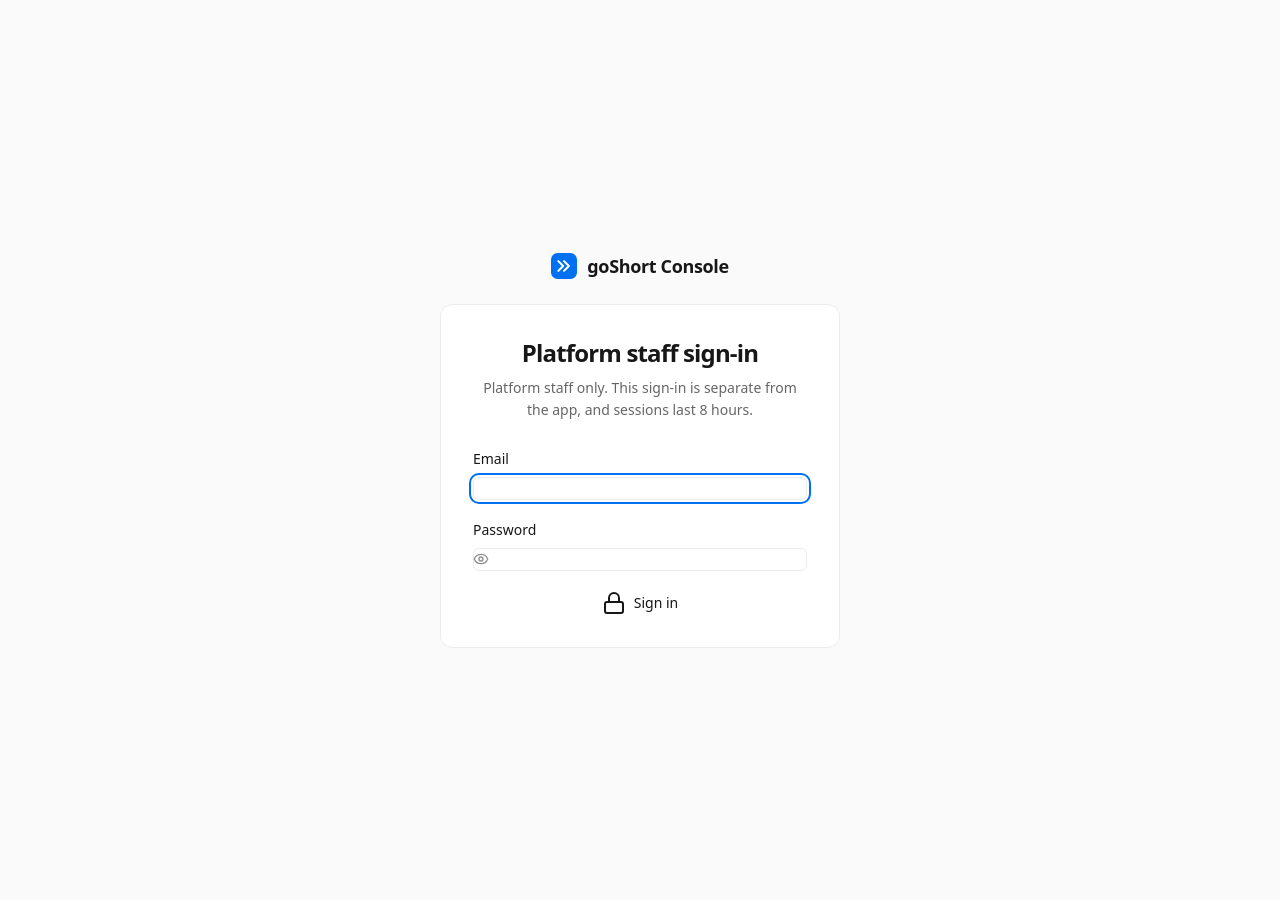
access › uses its own sign-in: shows the staff form when signed out, signs in against the CONSOLE endpoint
The image size is (1280, 900).
Expected: the heading "Platform staff sign-in" is shown, 522,336 -> 758,368
Type "root@example.com" into the field labelled "Email" at point(640, 488), box 473,476 -> 807,500
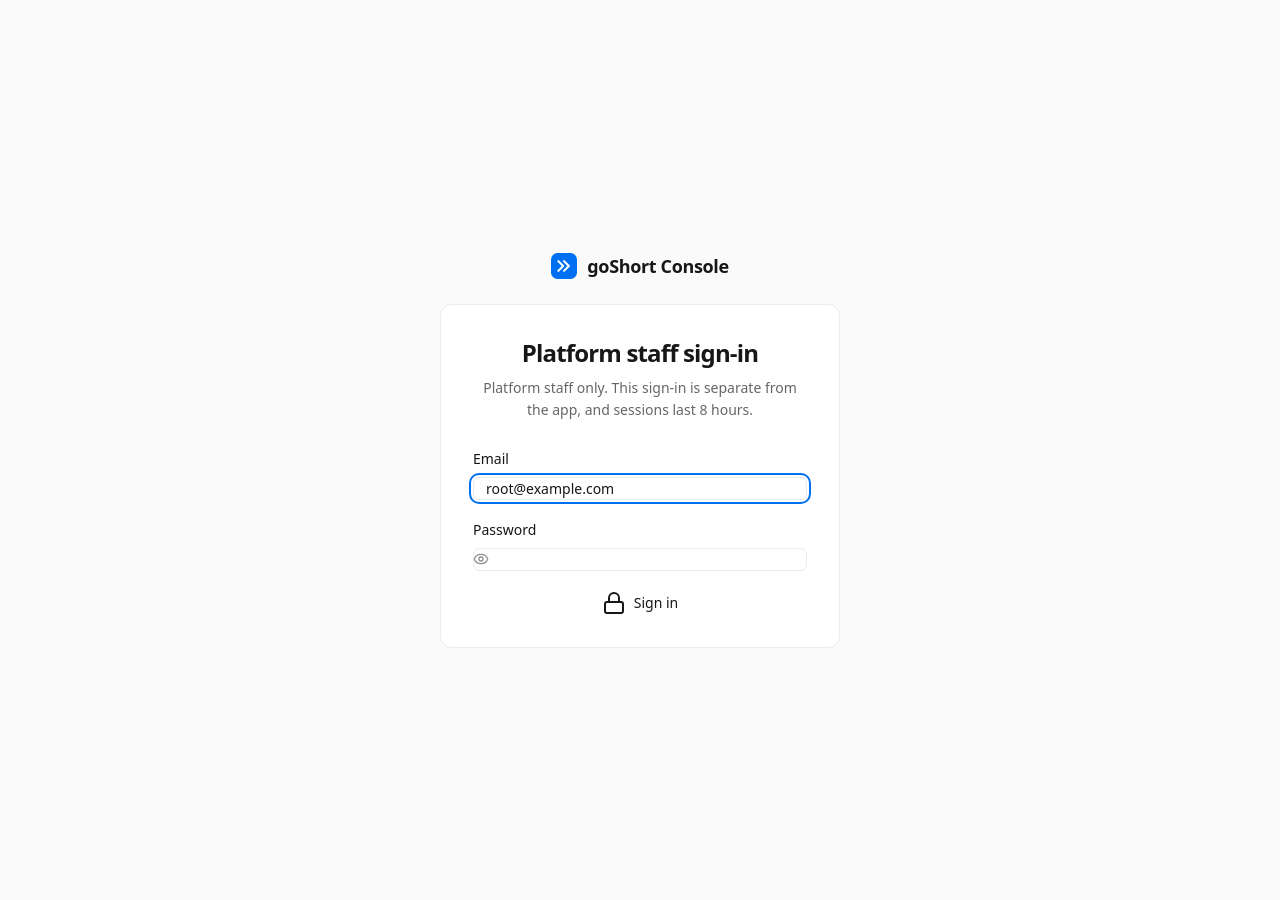
Type "correct-horse-battery" into the password field labelled "Password" at point(640, 559), box 473,548 -> 807,570
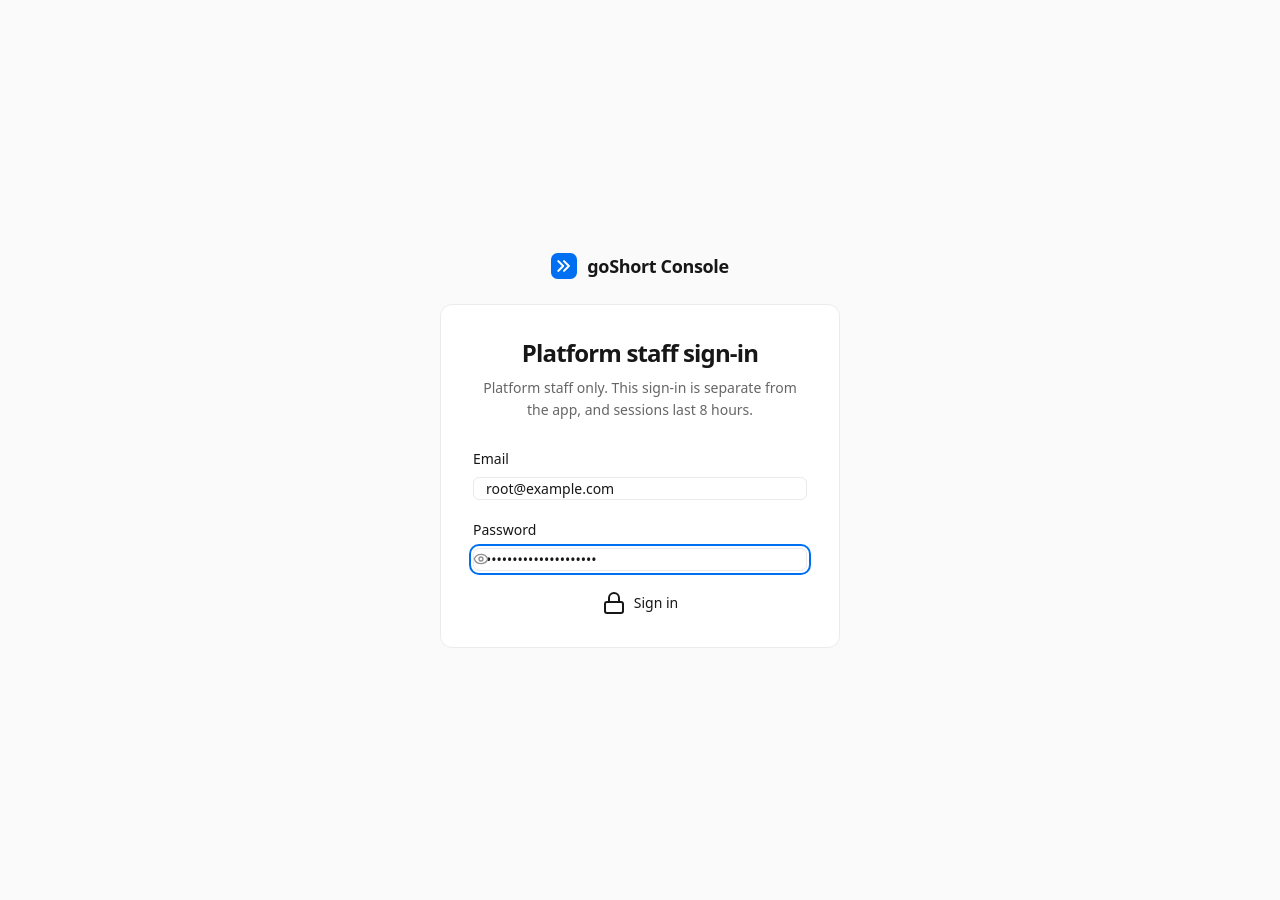
Click the button "Sign in" at point(640, 602), box 473,590 -> 807,614
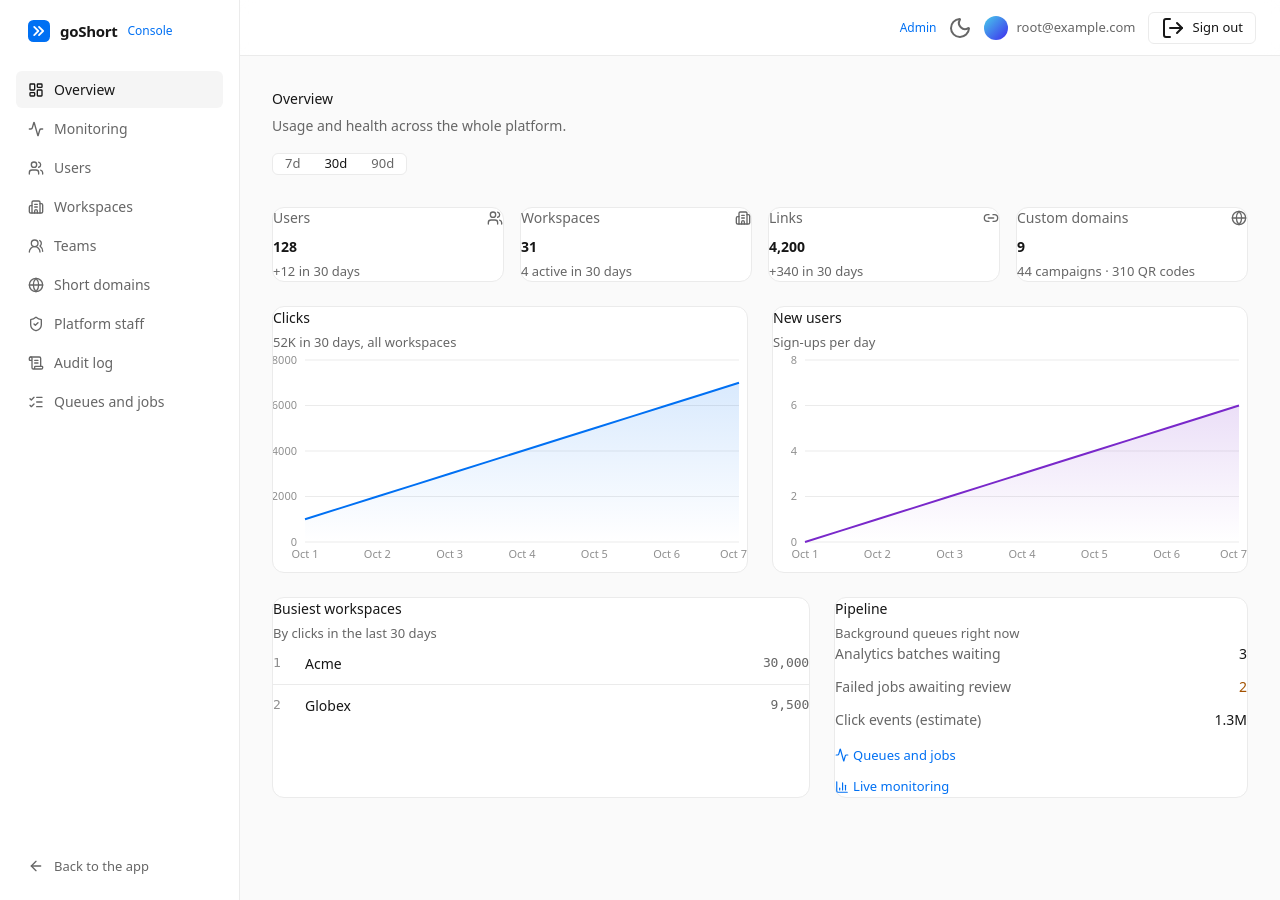
Now the heading "Overview" is shown, box 272,89 -> 333,108
